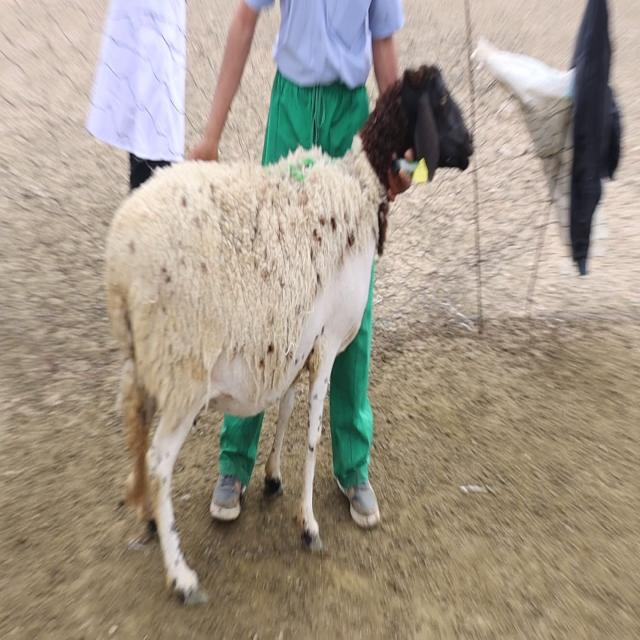Score_5: (106, 66, 473, 603)
